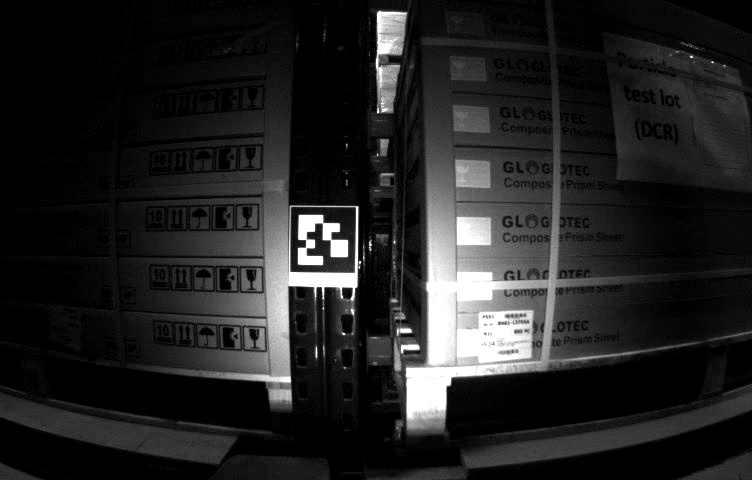True Barcode: (478, 311, 531, 357), (42, 300, 81, 351)
